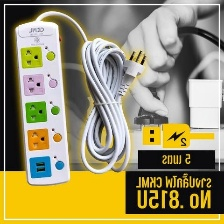three_eye_plug: (13, 16, 73, 187), (34, 118, 224, 169)
